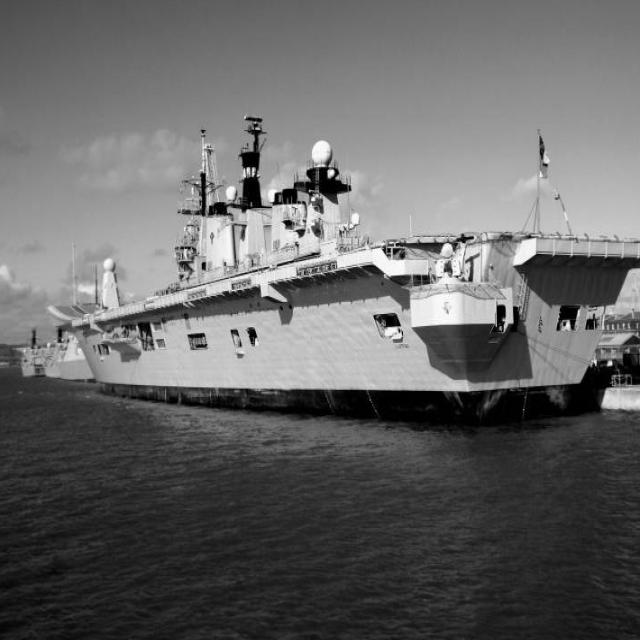Portanaves: (49, 104, 640, 434)
